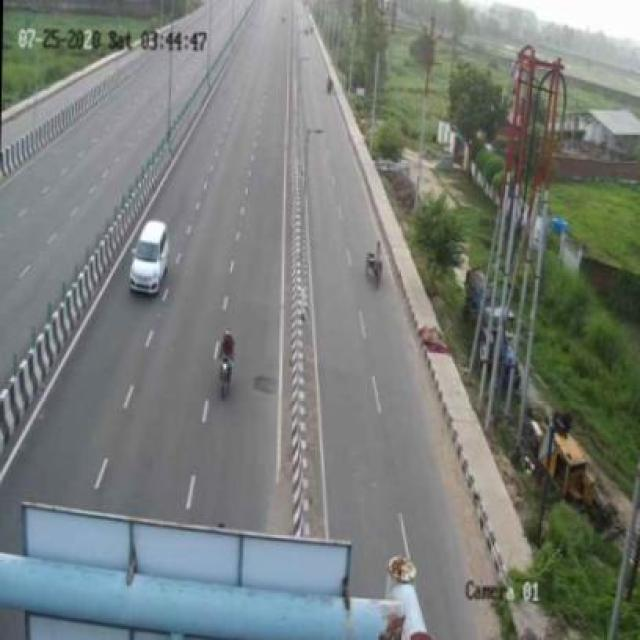car: (125, 210, 182, 297)
